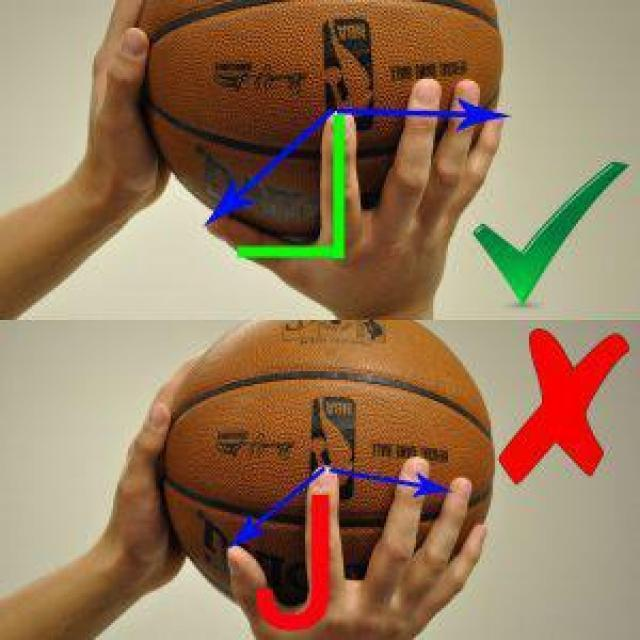Basketball: (162, 316, 495, 614), (130, 0, 504, 249)
